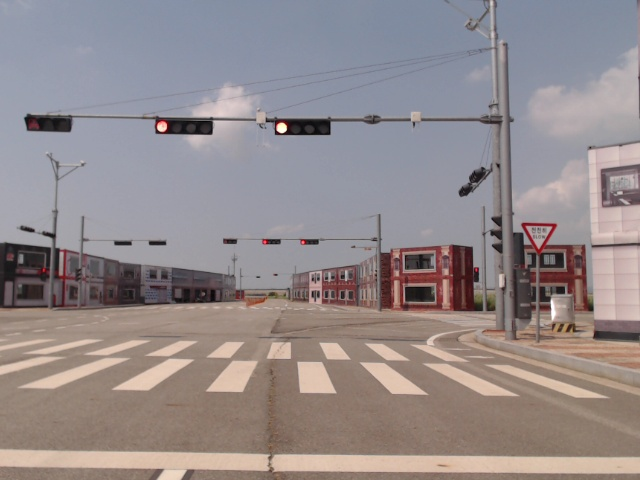red_4: (155, 118, 213, 135), (273, 119, 332, 135), (261, 238, 282, 246), (299, 238, 319, 246)
